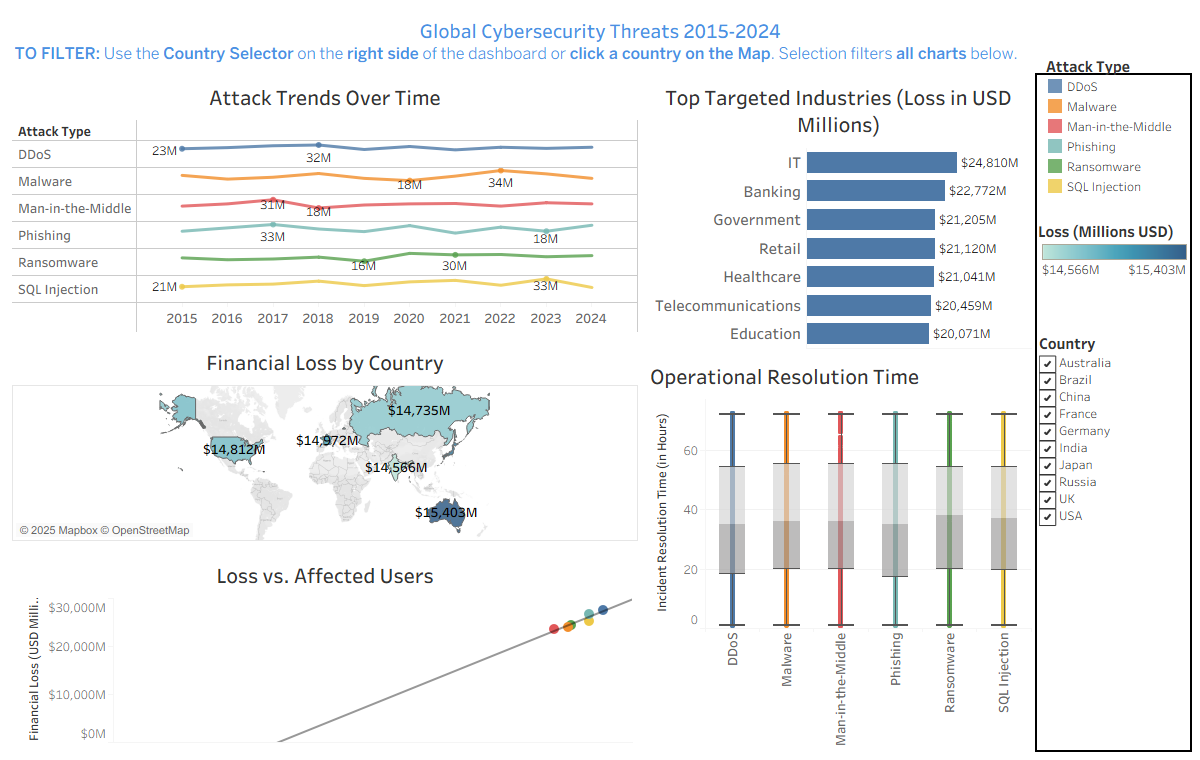

The page's visual inventory and layout, read from the dashboard file:
{"tool":"tableau","page":{"name":"Dashboard","canvas":[1200,760],"ordinal":0},"visuals":[{"type":"text","box":[8,8,1184,65.5]},{"type":"legend","title":"Attack Trends Over Time","param":"[federated.0mg64wj1jfoqr7177498t10h3zyo].[none:Attack Type:nk]","box":[1045,54,140,159.6]},{"type":"worksheet","title":"Attack Trends Over Time","mark":"Line","rows":["Attack Type","Number of Affected Users"],"cols":["Year"],"box":[8,73.5,634,264.4]},{"type":"worksheet","title":"Top Targeted Industries","mark":"Automatic","rows":["Target Industry"],"cols":["Financial Loss (in Million $)"],"box":[642,73.5,393,278.7]},{"type":"legend","title":"Financial Loss by Country","param":"[federated.0mg64wj1jfoqr7177498t10h3zyo].[sum:Financial Loss (in Million $):qk]","box":[1038,217,153,70.9]},{"type":"filter","title":"Attack Trends Over Time","param":"[federated.0mg64wj1jfoqr7177498t10h3zyo].[none:Country:nk]","box":[1039,331.6,152,203.3]},{"type":"worksheet","title":"Financial Loss by Country","mark":"Automatic","box":[8,337.9,634,207]},{"type":"worksheet","title":"Operational Resolution Time","mark":"Circle","rows":["Incident Resolution Time (in Hours)"],"cols":["Attack Type"],"box":[642,352,393,400]},{"type":"worksheet","title":"Loss vs. Affected Users","mark":"Circle","rows":["Financial Loss (in Million $)"],"cols":["Number of Affected Users"],"box":[8,545,634,207]}]}

Visuals, with their boxes in screenshot pixels (x1, y1, x2, y2), scaled from the page's 1200x760 canvas onto the 1200x760 screenshot:
text: select_region(8, 8, 1192, 74)
"Attack Trends Over Time" legend: select_region(1045, 54, 1185, 214)
"Attack Trends Over Time" worksheet (Line marks): select_region(8, 74, 642, 338)
"Top Targeted Industries" worksheet: select_region(642, 74, 1035, 352)
"Financial Loss by Country" legend: select_region(1038, 217, 1191, 288)
"Attack Trends Over Time" filter: select_region(1039, 332, 1191, 535)
"Financial Loss by Country" worksheet: select_region(8, 338, 642, 545)
"Operational Resolution Time" worksheet (Circle marks): select_region(642, 352, 1035, 752)
"Loss vs. Affected Users" worksheet (Circle marks): select_region(8, 545, 642, 752)
